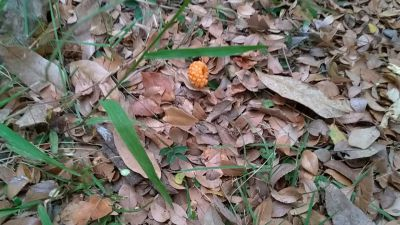eggs: (185, 59, 210, 87)
